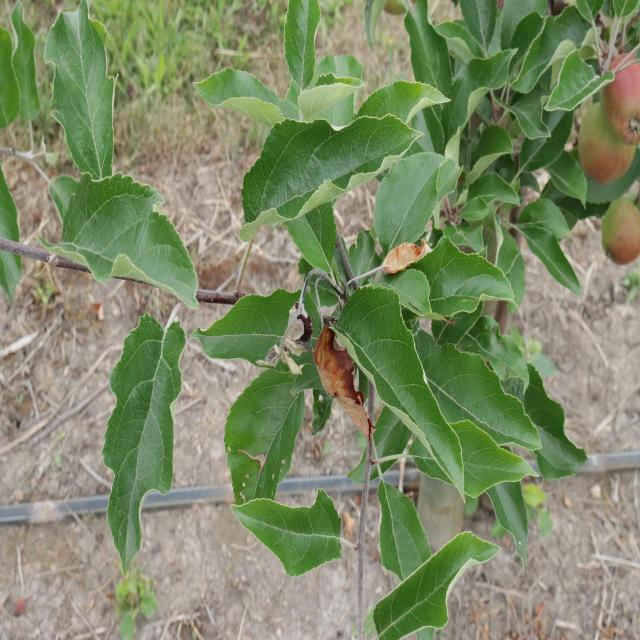-FireBlight-: (306, 268, 371, 440)
